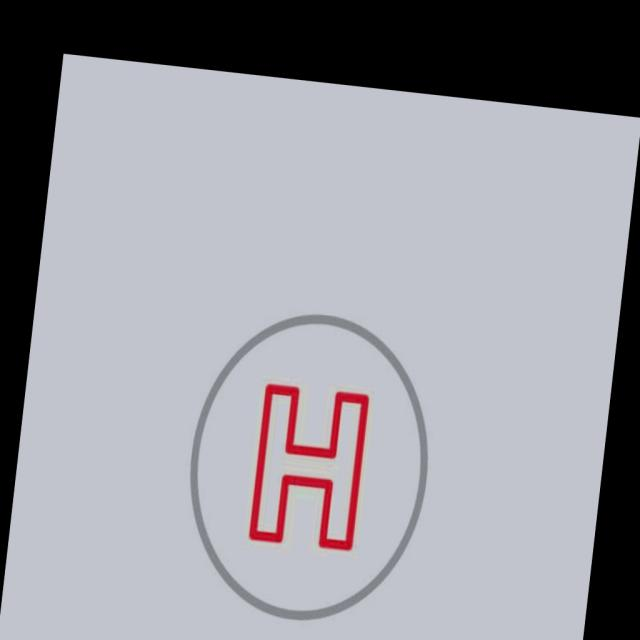helipad: (183, 309, 433, 625)
